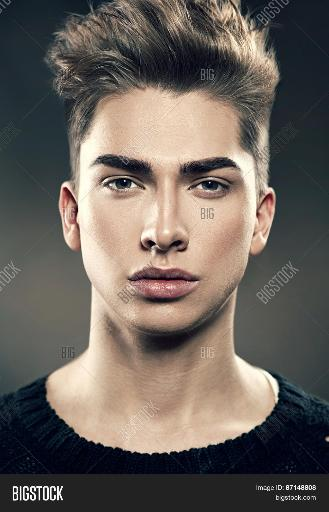left_eye: (188, 177, 235, 199)
left_lip_corner: (192, 275, 204, 288)
right_eye: (101, 175, 146, 196)
right_lip_corner: (125, 273, 138, 289)
